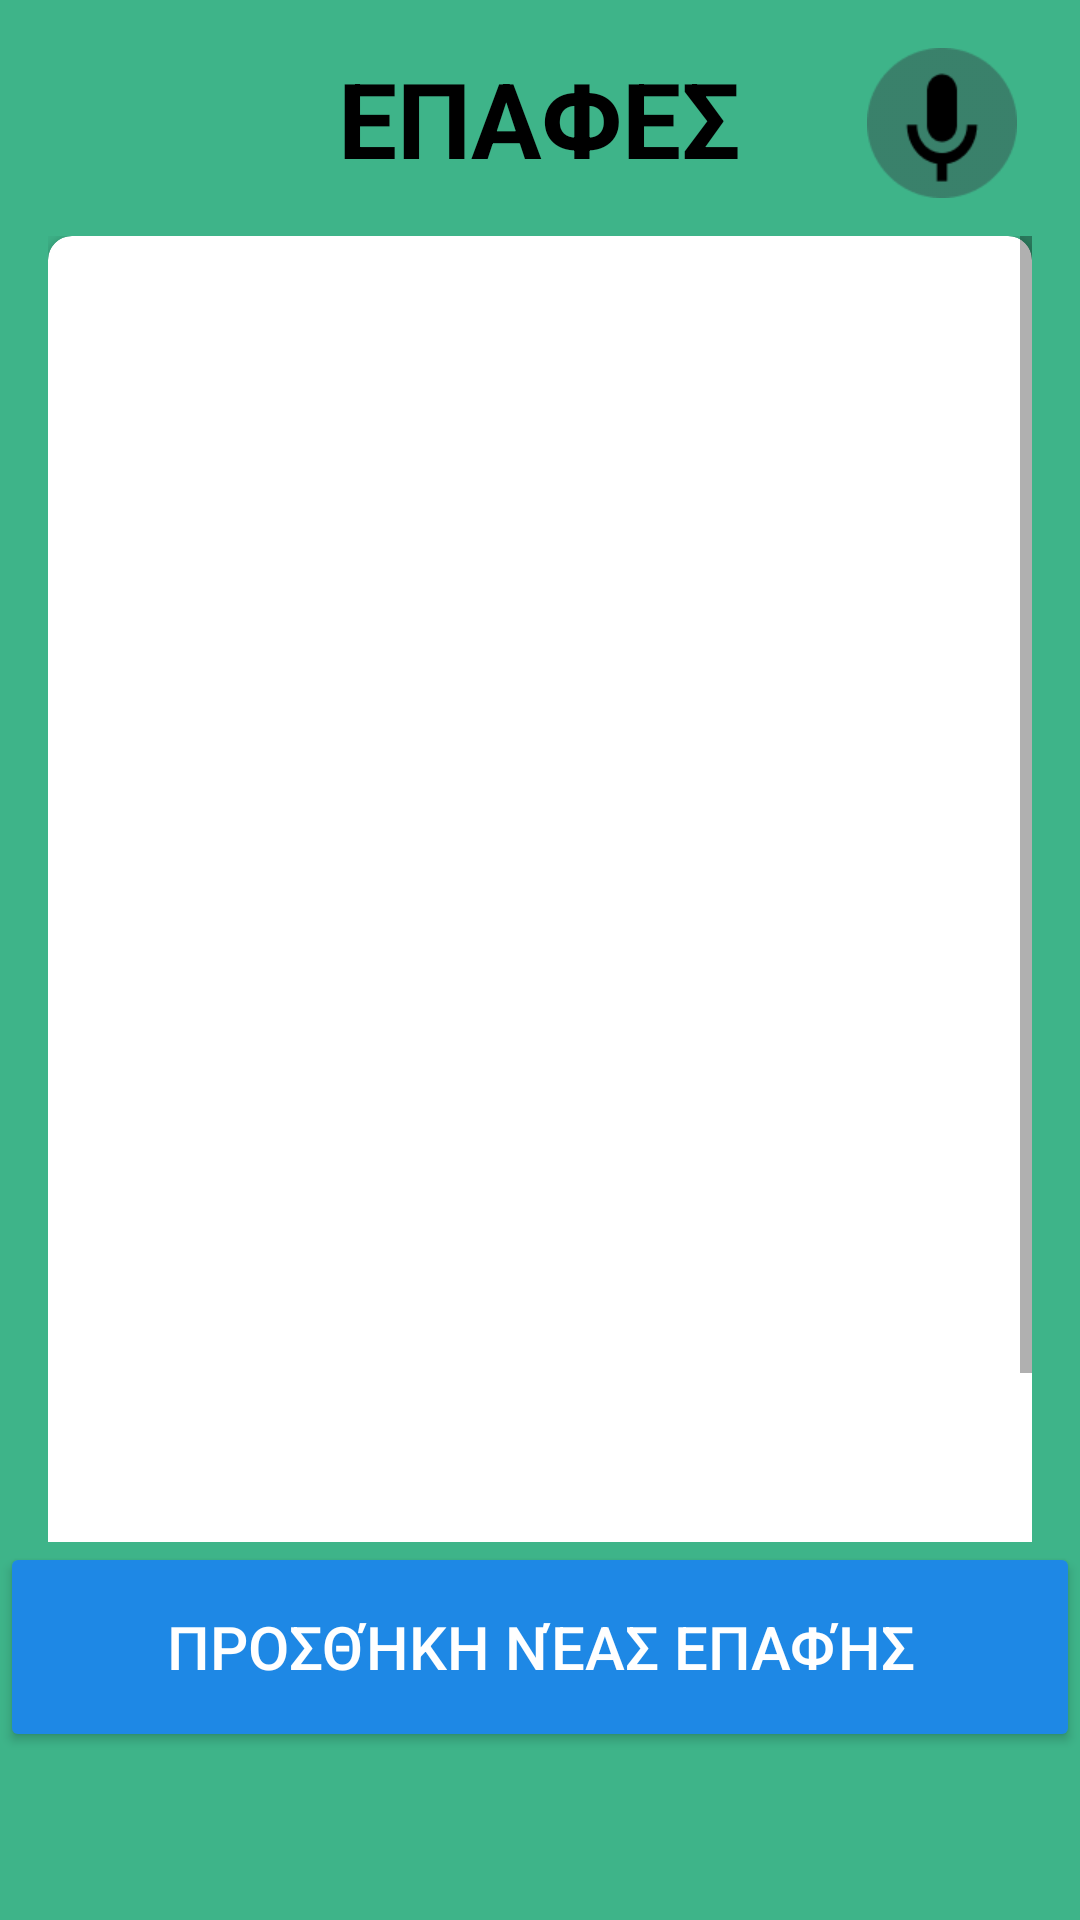

Where icons sit on this 1080px x 1920px app screen, as box(x1, y1, x2, y2):
Μικρόφωνο: box(867, 48, 1017, 198)
